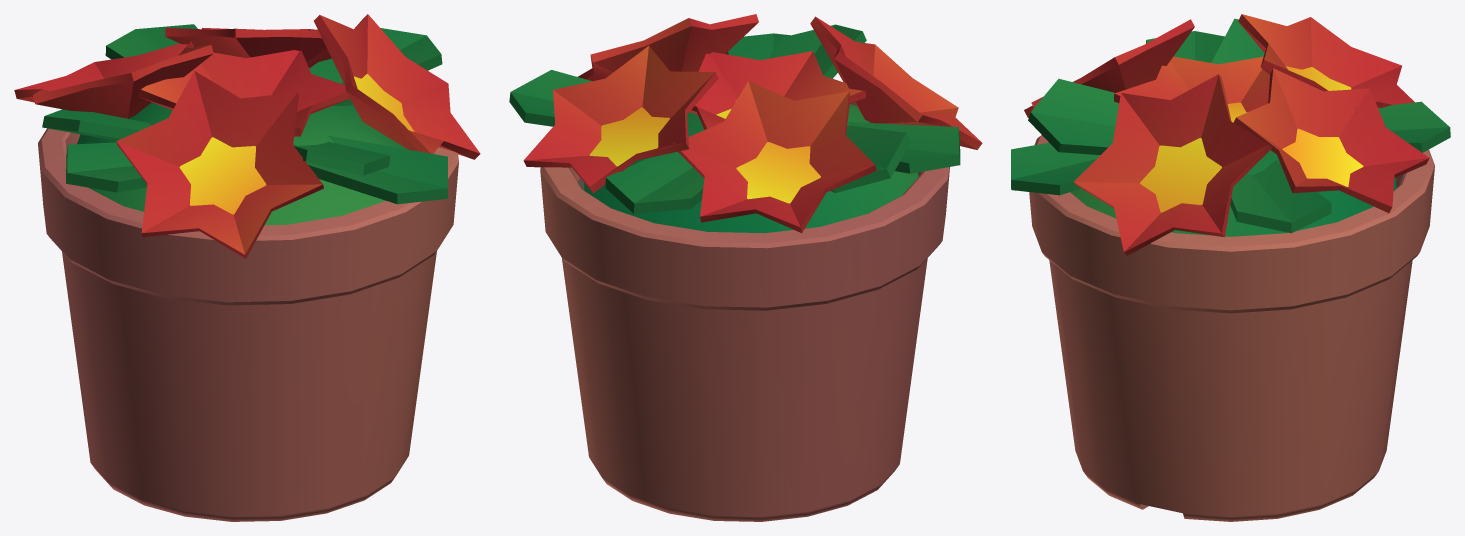
The model's file is FlowerPotRed.fbx.
The picture shows the model from 3 angles, left to right: view 1: azimuth 30°, elevation 25°; view 2: azimuth 150°, elevation 25°; view 3: azimuth 270°, elevation 25°; orthographic projection. The views are drawn at different scales.
Parts seen in each view (by area): view 1: FlowerPotRed; view 2: FlowerPotRed; view 3: FlowerPotRed.
Part boxes in pixels (x1,y1,x2,y2): FlowerPotRed: (14,14,480,521); FlowerPotRed: (509,14,982,521); FlowerPotRed: (1011,14,1450,521).
Bounding box in the file's own units: 0.6029 × 0.6018 × 0.5782.
